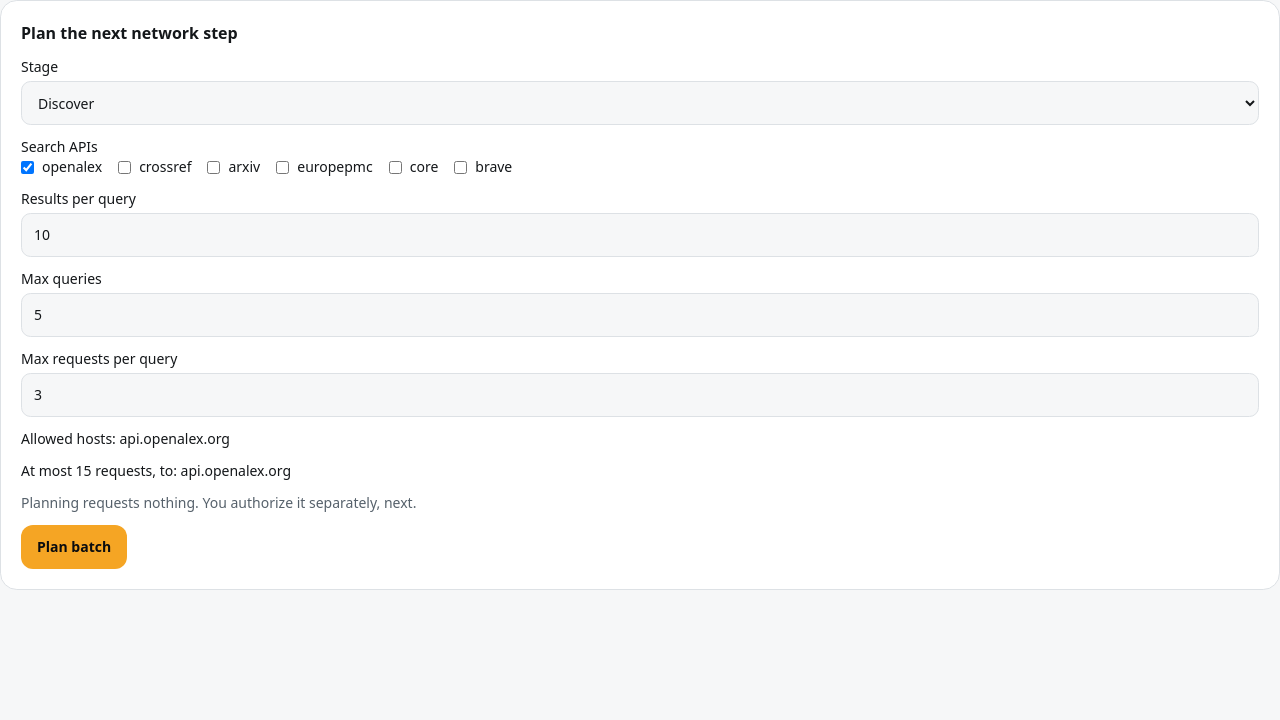
Test case: second acquisition plan › keeps a person's request ceiling when the suggestion arrives
The image size is (1280, 720).
Select "Acquire" in the dropdown labelled "Stage" at (640, 103), box x1=21 y1=81 x2=1259 y2=125
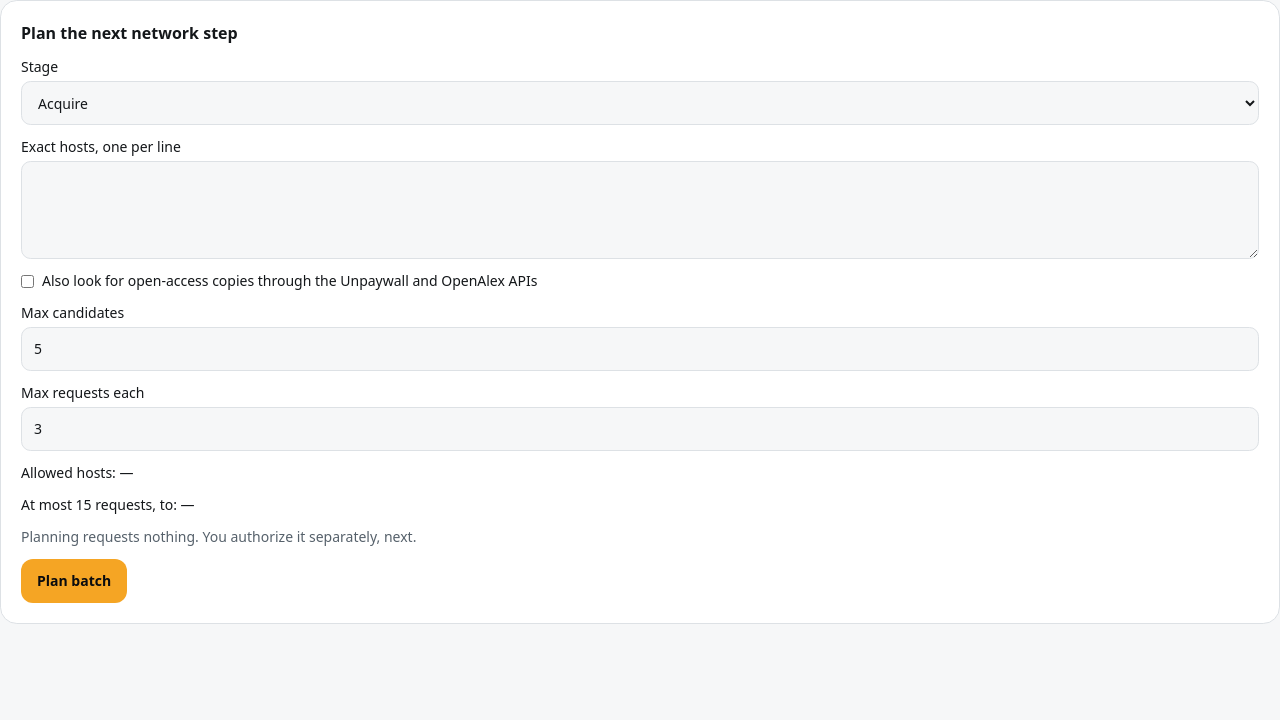
Replace the text in the number field labelled "Max requests each" with "7" at (640, 429), box x1=21 y1=407 x2=1259 y2=451
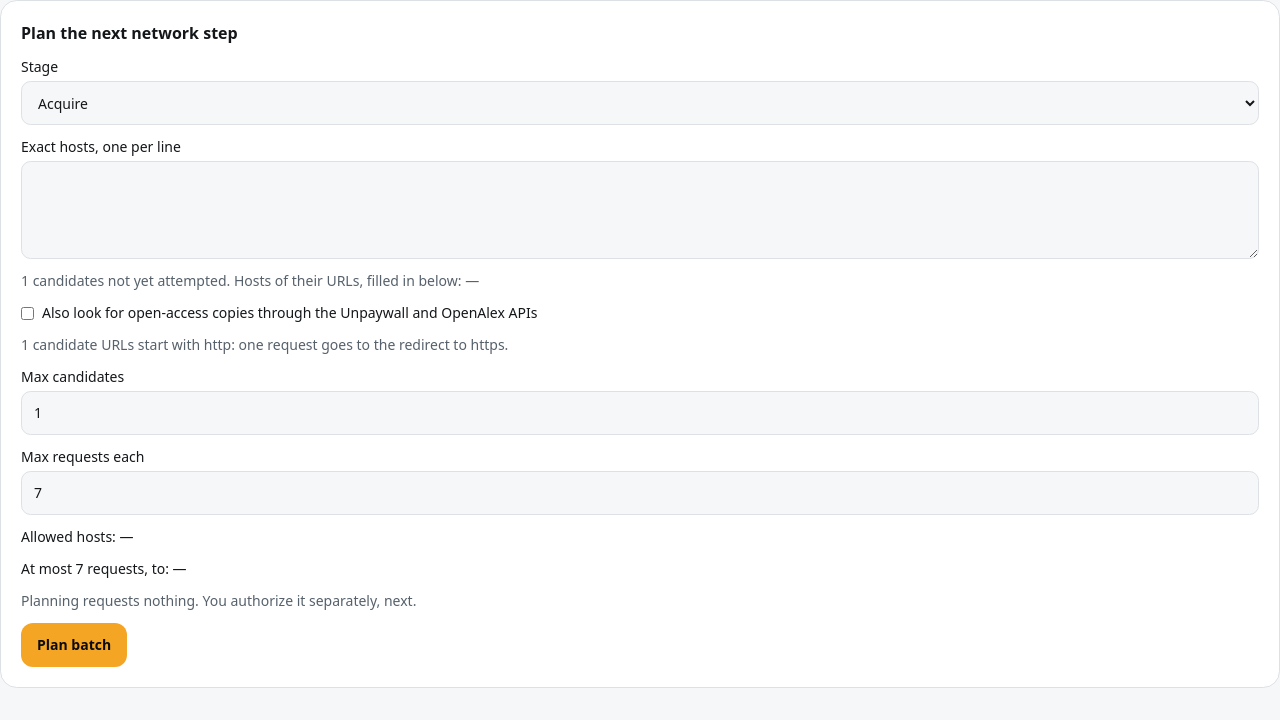
Result: the text "candidate URLs start with http" is shown at x1=21 y1=335 x2=508 y2=354
